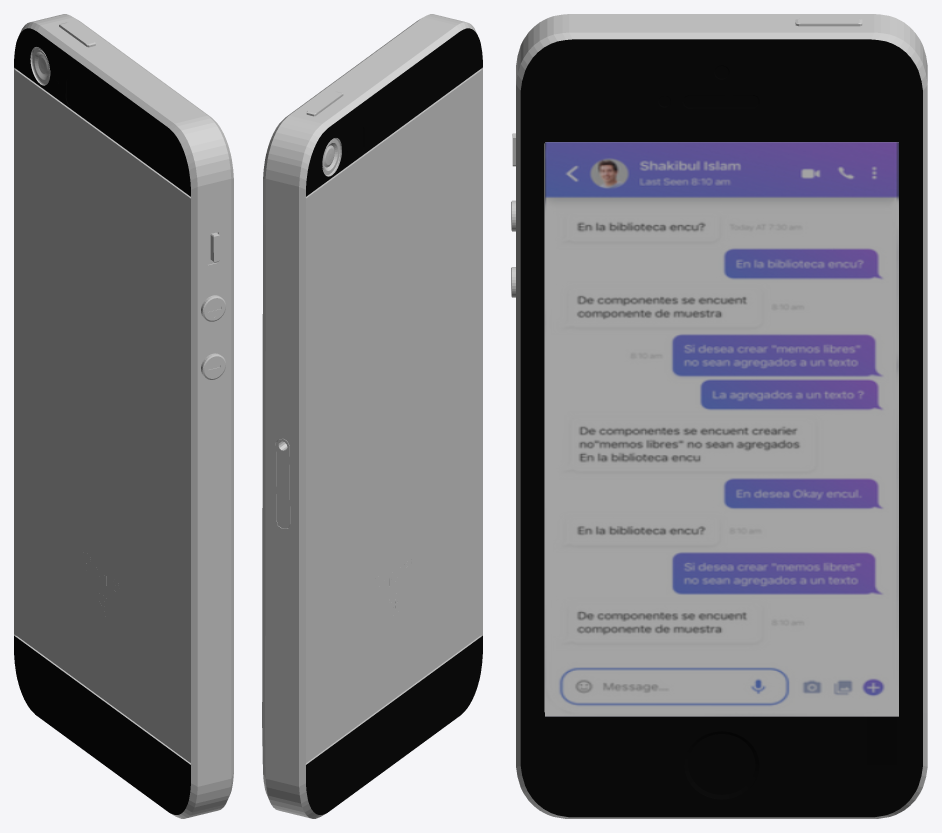
Rendered from phone.glb.
The picture shows the model from 3 angles, left to right: view 1: azimuth 30°, elevation 25°; view 2: azimuth 150°, elevation 25°; view 3: azimuth 270°, elevation 25°; orthographic projection. The views are drawn at different scales.
Visible parts, largest first — view 1: Phone_Cube; view 2: Phone_Cube; view 3: Plane, Phone_Cube.
Part boxes in pixels (x1,y1,x2,y2): Phone_Cube: [14, 14, 233, 818]; Phone_Cube: [262, 14, 482, 818]; Plane: [545, 142, 898, 716]; Phone_Cube: [511, 14, 927, 818].
Bounding box in the file's own units: 0.1261 × 1.86 × 0.8877.
10 materials, 1 textured.
